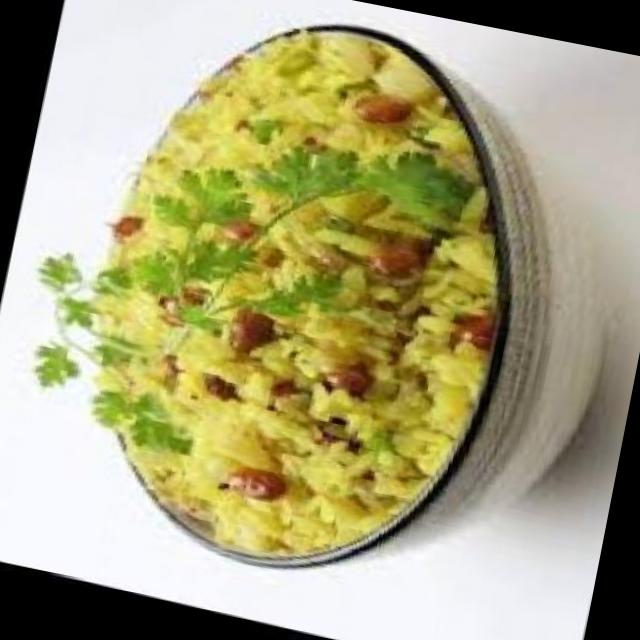poha: (50, 0, 551, 601)
